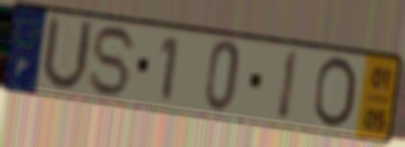0: (204, 39, 246, 116)
1: (157, 36, 181, 104)
I: (275, 46, 302, 125)
O: (310, 54, 359, 130)
S: (86, 23, 141, 100)
U: (38, 12, 96, 95)
